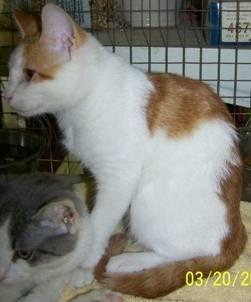cat: (6, 4, 245, 296)
